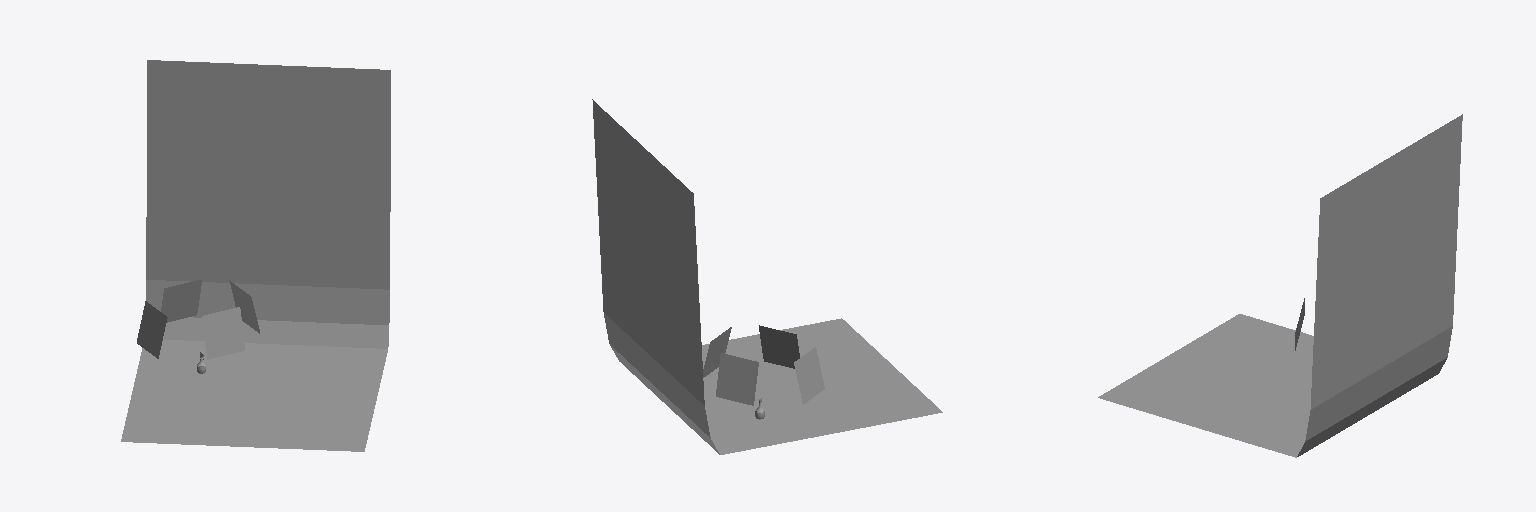
File: Pull.obj
The picture shows the model from 3 angles: view 1: azimuth 30°, elevation 25°; view 2: azimuth 150°, elevation 25°; view 3: azimuth 270°, elevation 25°; orthographic projection.
Parts seen in each view (by area): view 1: Circle.001, Plane; view 2: Circle.001, Plane; view 3: Circle.001.
Part boxes in pixels (x1,y1,x2,y2): Circle.001: (121, 60, 390, 451); Plane: (137, 279, 259, 359); Circle.001: (592, 99, 942, 454); Plane: (703, 325, 824, 405); Circle.001: (1098, 114, 1462, 457).
Bounding box in the file's own units: 234 × 192 × 238.